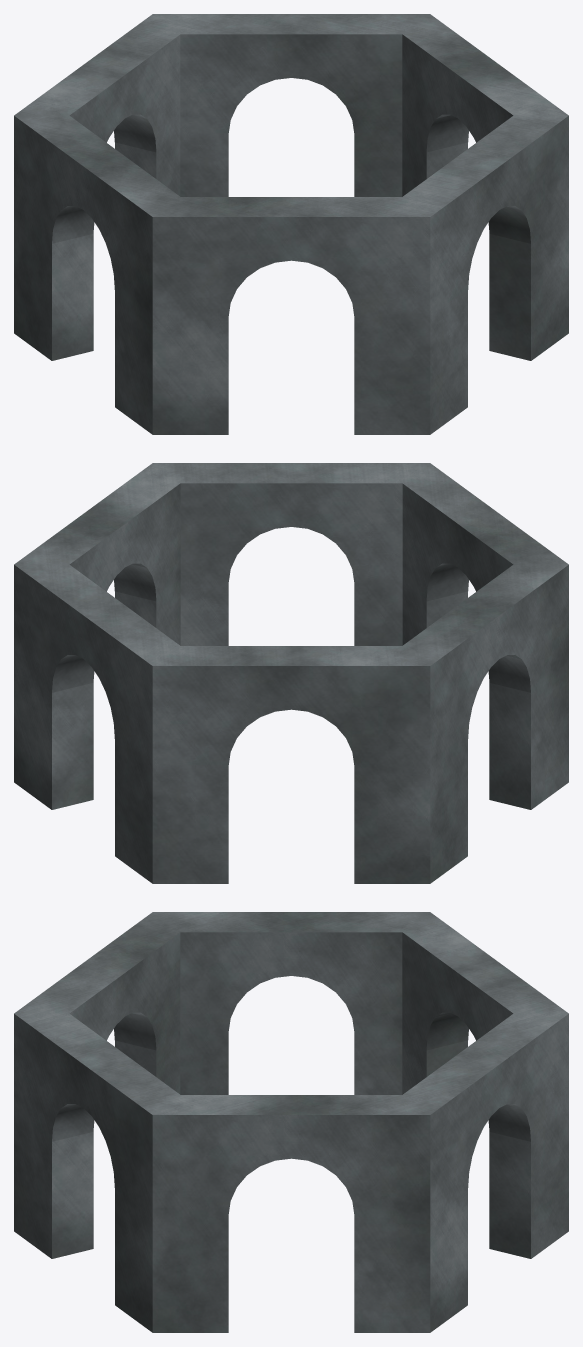
Rendered from TileHolder.fbx.
The picture shows the model from 3 angles, top to bottom: view 1: azimuth 30°, elevation 25°; view 2: azimuth 150°, elevation 25°; view 3: azimuth 270°, elevation 25°; orthographic projection.
Visible parts, largest first — view 1: hexagon_archesHalf; view 2: hexagon_archesHalf; view 3: hexagon_archesHalf.
Boxes of the visible parts, x1=… form: hexagon_archesHalf: x1=14, y1=14, x2=568, y2=434; hexagon_archesHalf: x1=14, y1=463, x2=568, y2=883; hexagon_archesHalf: x1=14, y1=912, x2=568, y2=1332.
Size of the model in its own units: 10 by 5 by 11.55.
Materials: 1 (1 with a texture image).
